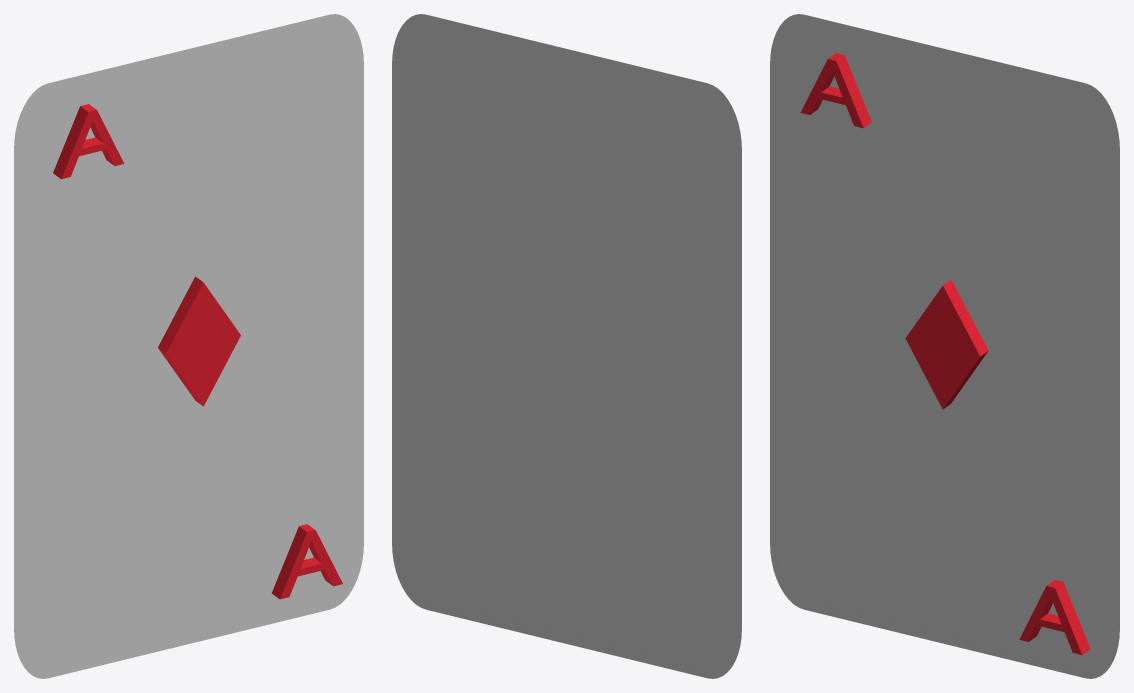
The model's file is ace_diamonds.obj.
3 renders of one model, left to right at view 1: azimuth 30°, elevation 25°; view 2: azimuth 150°, elevation 25°; view 3: azimuth 330°, elevation 25°, orthographic.
Parts seen in each view (by area): view 1: group_0_16448250, group_0_15277357; view 2: group_0_16448250; view 3: group_0_16448250, group_0_15277357.
Boxes of the visible parts, left/top/right/bottom form: group_0_16448250: left=14, top=14, right=363, bottom=678; group_0_15277357: left=53, top=104, right=342, bottom=599; group_0_16448250: left=392, top=14, right=741, bottom=678; group_0_16448250: left=770, top=14, right=1119, bottom=678; group_0_15277357: left=800, top=53, right=1090, bottom=654.
Bounding box in the file's own units: 24 × 39 × 1.
